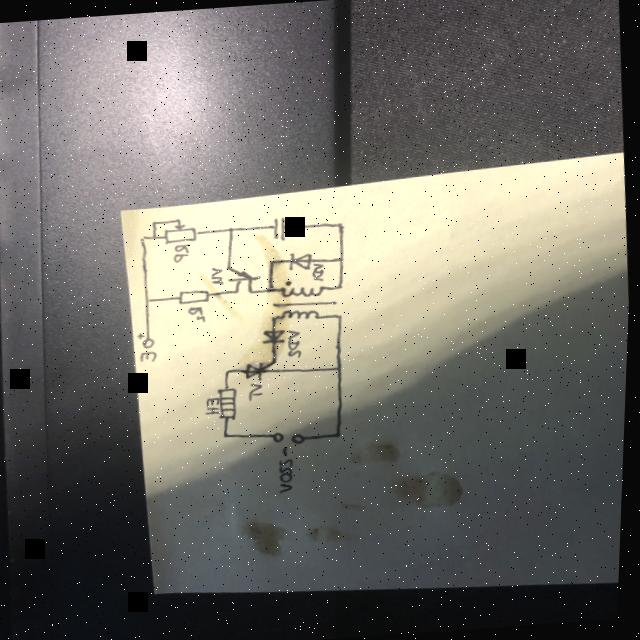capacitor: (272, 215, 289, 240)
diode: (290, 249, 315, 271), (263, 326, 289, 344)
junction: (144, 294, 155, 303), (140, 233, 151, 241), (232, 286, 243, 294), (248, 286, 259, 294), (338, 254, 349, 262), (266, 284, 277, 292), (270, 356, 281, 364), (228, 224, 238, 232), (336, 220, 346, 228), (337, 282, 347, 290), (271, 312, 281, 320), (337, 312, 347, 320), (337, 364, 347, 372), (336, 430, 346, 438), (222, 430, 232, 438), (225, 366, 235, 374), (152, 233, 159, 240), (152, 220, 159, 226), (177, 216, 184, 222)
resistor: (163, 223, 201, 243), (179, 287, 213, 303)
terminal: (292, 431, 311, 444), (272, 429, 290, 442), (143, 334, 157, 348)
text: (278, 444, 299, 492), (287, 327, 305, 358), (173, 242, 192, 262), (188, 304, 208, 322), (205, 395, 223, 414), (211, 264, 226, 286), (250, 381, 267, 400), (311, 261, 326, 281), (140, 349, 159, 361)
thyristor: (246, 360, 266, 380)
transformer: (279, 277, 327, 321)
transistor: (228, 265, 263, 285)
